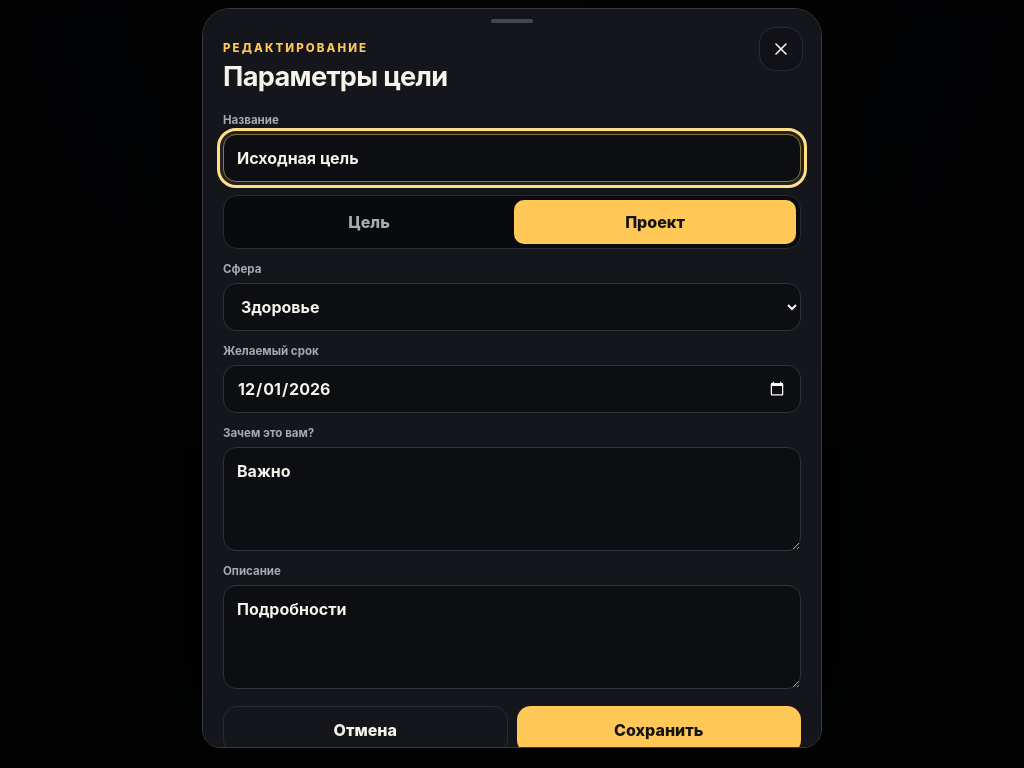
Test: edit sheets › keeps goal update failure in the local error channel
Click the button "Сохранить" at (659, 730), box [516,706,801,754]
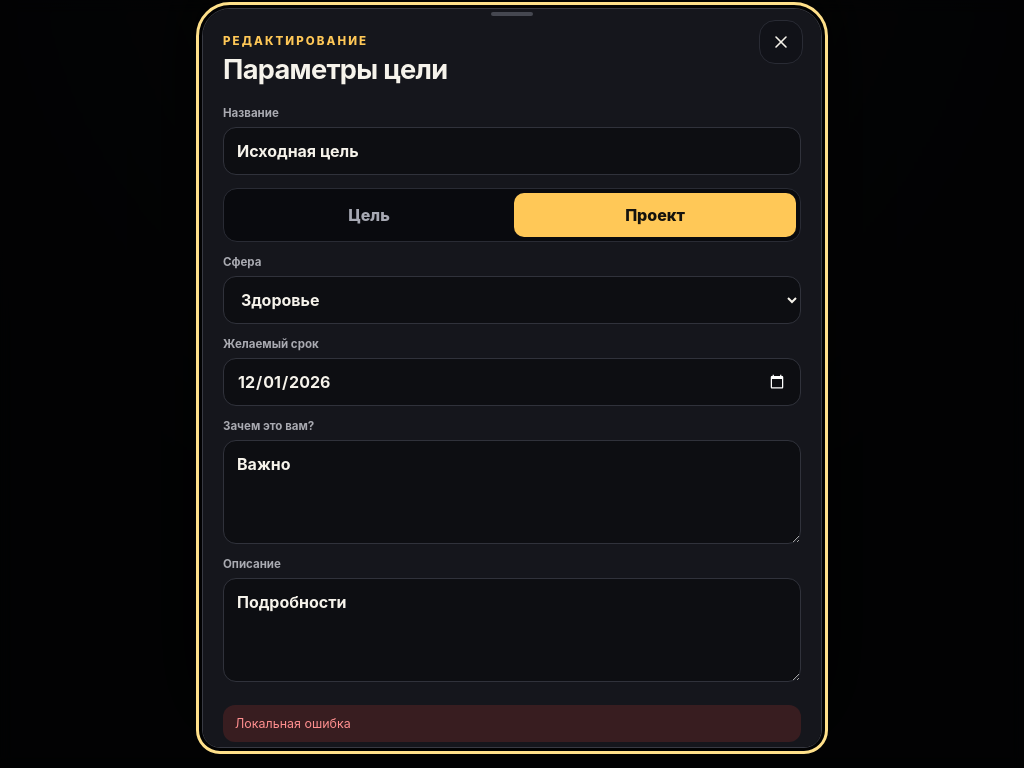
Now the message reads "Локальная ошибка", box [235,716,351,731]
Now the number of messages is 1, box [223,705,801,742]
